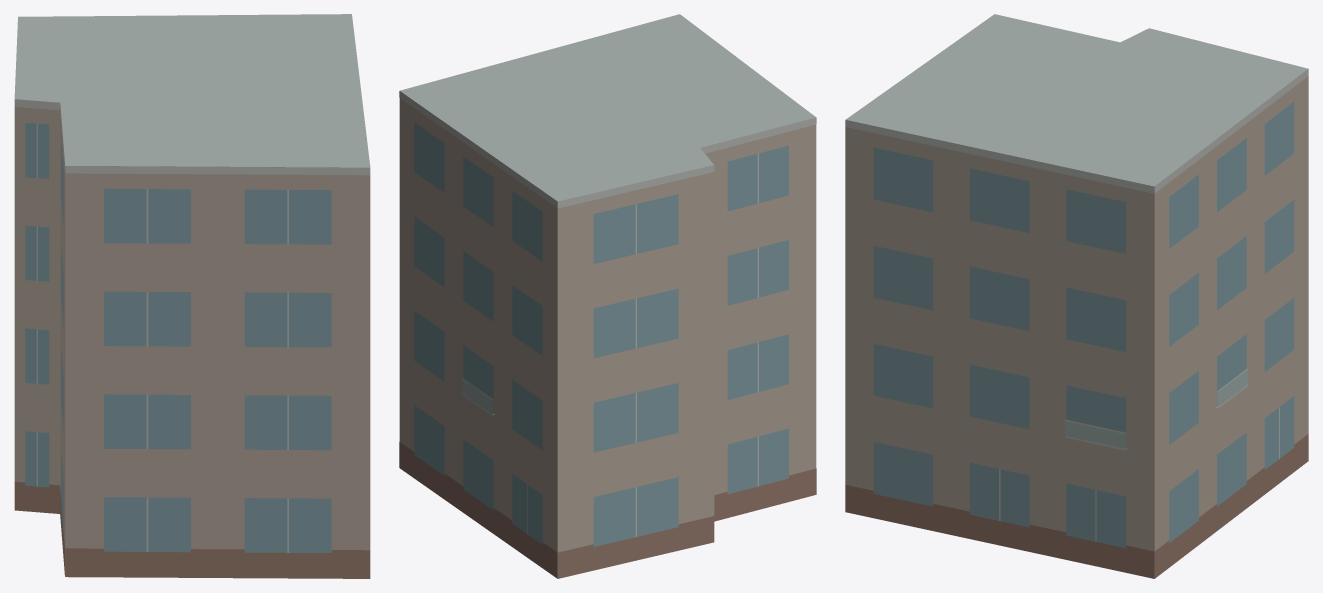
The model's file is survey-upis-32739133.glb.
The picture shows the model from 3 angles, left to right: view 1: azimuth 30°, elevation 25°; view 2: azimuth 150°, elevation 25°; view 3: azimuth 270°, elevation 25°; orthographic projection. The views are drawn at different scales.
Visible parts, largest first — view 1: survey-upis-32739133.tmp; view 2: survey-upis-32739133.tmp; view 3: survey-upis-32739133.tmp.
Boxes of the visible parts, left/top/right/bottom form: survey-upis-32739133.tmp: left=14, top=14, right=370, bottom=578; survey-upis-32739133.tmp: left=399, top=14, right=816, bottom=578; survey-upis-32739133.tmp: left=845, top=14, right=1308, bottom=578.
Size of the model in its own units: 12.46 by 13.2 by 14.13.
